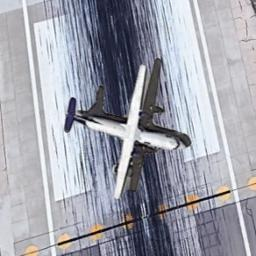Airplane: (63, 57, 191, 199)
